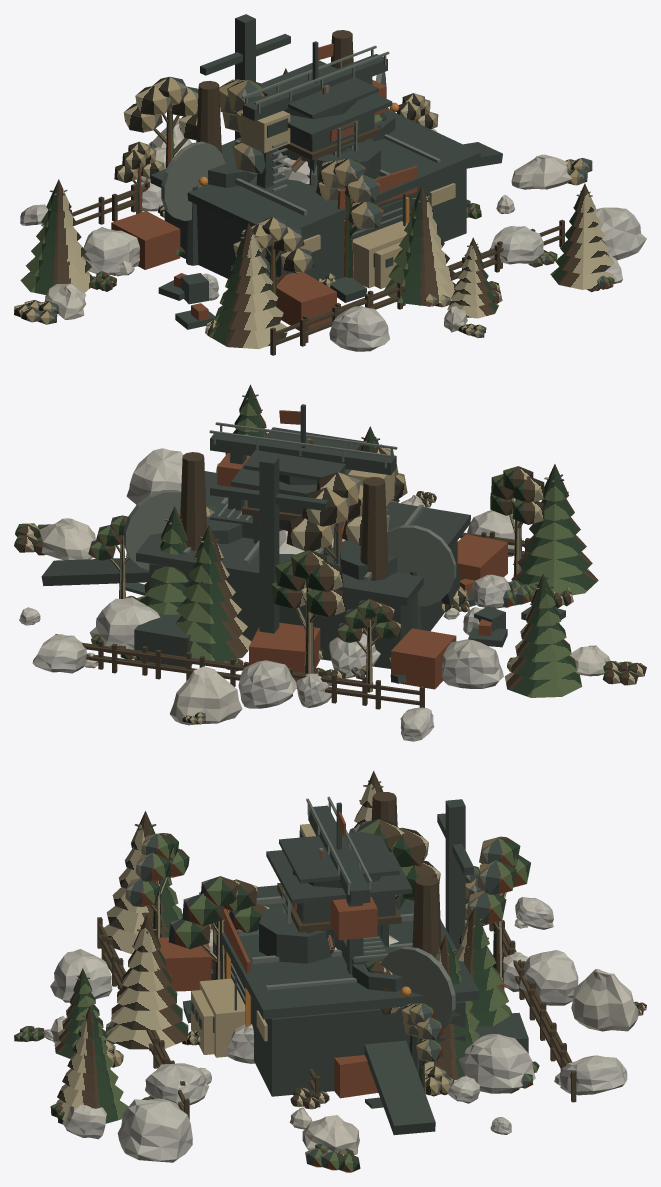
The model's file is authored_monuments.glb.
The picture shows the model from 3 angles, top to bottom: view 1: azimuth 30°, elevation 25°; view 2: azimuth 150°, elevation 25°; view 3: azimuth 270°, elevation 25°; orthographic projection. The views are drawn at different scales.
Parts seen in each view (by area): view 1: spruceTrees, birchTrees, metalStructure_0005, ironStructure_0005, MilitaryStructure6, metal_cylinder, MilitaryStructure5, metalStructure_0004, redStructure_0032, redStructure_0012, metalStructure_0006, rockInstances_005 (+25 smaller); view 2: spruceTrees, birchTrees, metalStructure_0005, ironStructure_0005, metal_cylinder, ironStructure_0007, stoneInstances_006, redStructure_0012, metalStructure_0006, rockInstances_008, woodDark_cylinder, metalStructure_0004 (+28 smaller); view 3: spruceTrees, birchTrees, metalStructure_0005, ironStructure_0005, metalStructure_0012, rockInstances_0012, metalStructure_0004, rockInstances_012, stoneInstances_006, metal_cylinder3, MilitaryStructure5, tankInstances_001 (+30 smaller).
Part boxes in pixels (x1,y1,x2,y2): spruceTrees: (20, 68, 616, 349); birchTrees: (114, 76, 438, 306); metalStructure_0005: (150, 110, 480, 234); ironStructure_0005: (164, 166, 466, 279); MilitaryStructure6: (241, 45, 389, 191); metal_cylinder: (161, 141, 225, 220); MilitaryStructure5: (235, 122, 455, 276); metalStructure_0004: (261, 60, 378, 118); redStructure_0032: (276, 272, 336, 330); redStructure_0012: (111, 211, 180, 269); metalStructure_0006: (243, 54, 387, 121); rockInstances_005: (329, 306, 389, 351); spruceTrees: (139, 384, 598, 697); birchTrees: (88, 447, 544, 692); metalStructure_0005: (136, 471, 470, 605); ironStructure_0005: (149, 541, 457, 668); metal_cylinder: (387, 525, 456, 606); ironStructure_0007: (259, 455, 279, 633); stoneInstances_006: (170, 666, 242, 725); redStructure_0012: (391, 628, 456, 689); metalStructure_0006: (210, 434, 396, 475); rockInstances_008: (442, 639, 503, 688); woodDark_cylinder: (360, 477, 388, 580); metalStructure_0004: (243, 427, 363, 480); spruceTrees: (54, 771, 511, 1123); birchTrees: (125, 819, 530, 1093); metalStructure_0005: (199, 885, 479, 1019); ironStructure_0005: (213, 928, 465, 1096); metalStructure_0012: (364, 1040, 435, 1135); rockInstances_0012: (117, 1098, 192, 1162); metalStructure_0004: (279, 832, 399, 883); rockInstances_012: (459, 1034, 535, 1093); stoneInstances_006: (571, 969, 638, 1031); metal_cylinder3: (380, 946, 455, 1029); MilitaryStructure5: (213, 896, 413, 1041); tankInstances_001: (259, 904, 335, 963).
Size of the model in its own units: 26.93 by 9.12 by 22.36.
Materials: 10 (1 with a texture image).
